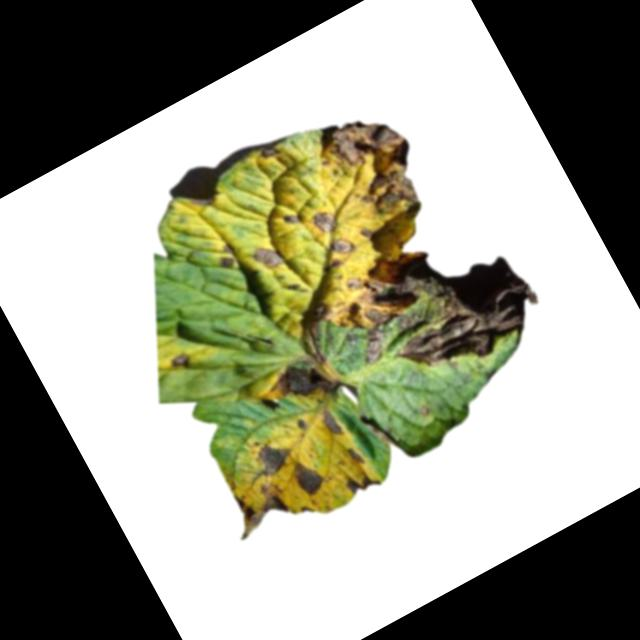Early_blight: (380, 245, 553, 394), (311, 97, 440, 241), (324, 219, 450, 339), (264, 348, 344, 423), (218, 477, 292, 545), (283, 292, 349, 364), (248, 434, 297, 481), (286, 455, 329, 501), (356, 327, 395, 367), (340, 463, 381, 500), (250, 237, 286, 275), (312, 405, 346, 444), (323, 231, 360, 265), (308, 206, 339, 239), (164, 348, 194, 379), (255, 138, 285, 166), (353, 221, 376, 245), (280, 209, 305, 231), (343, 445, 365, 469)
